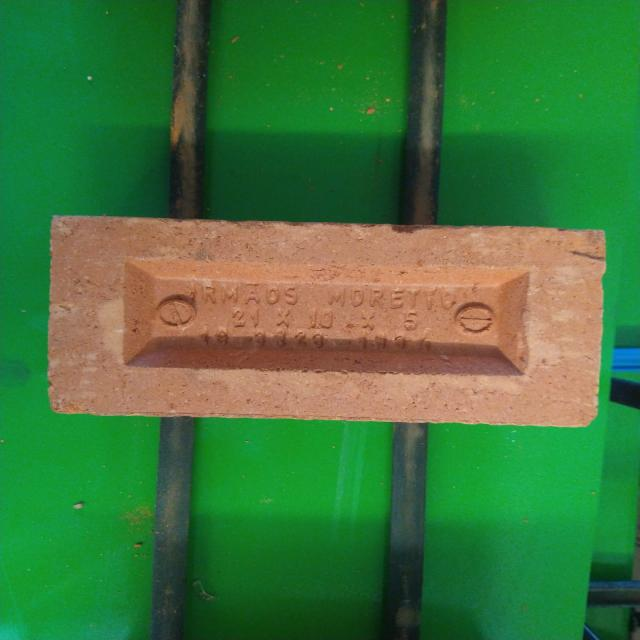bricks: (49, 213, 603, 429)
